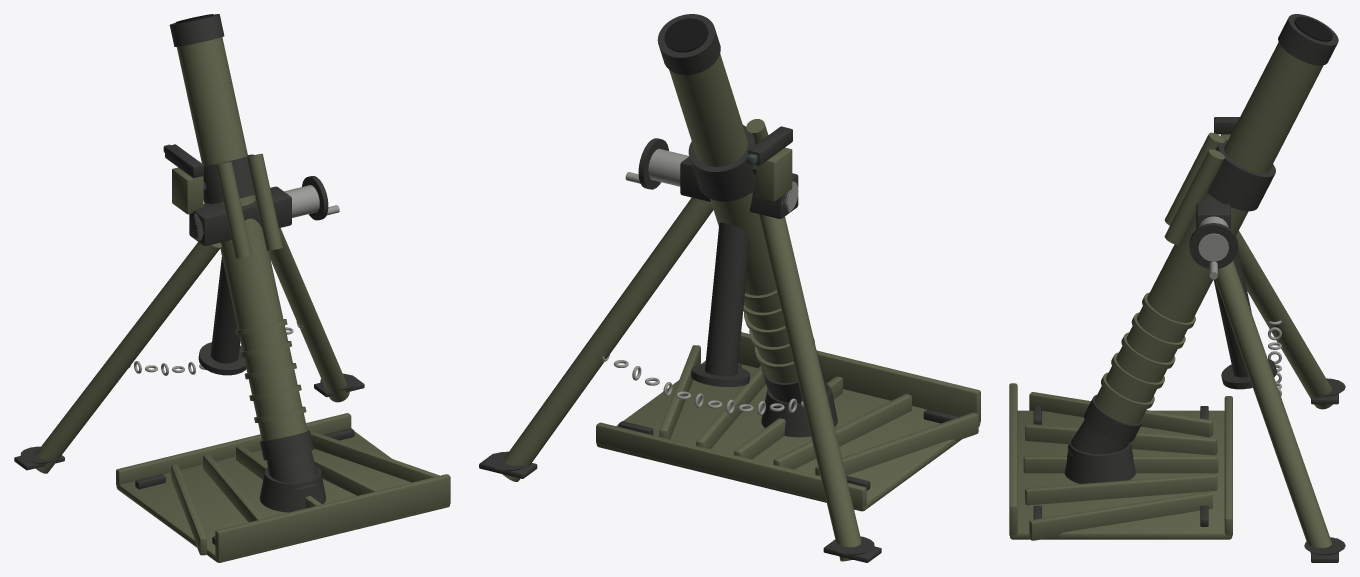
The model's file is morteiro_m2.glb.
3 renders of one model, left to right at view 1: azimuth 30°, elevation 25°; view 2: azimuth 150°, elevation 25°; view 3: azimuth 270°, elevation 25°, orthographic. The views are drawn at different scales.
Parts seen in each view (by area): view 1: Cone.002, Cube, Cube.006, Cone.020, Cone.022, Cube.007, Cube.016, Cube.005, Cone.018, Cone, Cone.012, Cone.013 (+13 smaller); view 2: Cube, Cone.002, Cone.020, Cone.022, Cube.007, Cube.006, Cone.018, Cube.001, Cone.011, Cube.002, Cone.004, Cube.012 (+11 smaller); view 3: Cone.002, Cube, Cone.022, Cone.020, Cube.004, Cube.005, Cube.002, Cone.011, Cube.003, Cube.001, Cone, Cone.013 (+17 smaller).
Boxes of the visible parts, x1,y1,x2,y2 form: Cone.002: (176,37,307,440); Cube: (116,431,449,562); Cube.006: (215,474,450,560); Cone.020: (35,242,221,473); Cone.022: (269,228,349,402); Cube.007: (116,413,351,486); Cube.016: (189,186,291,245); Cube.005: (310,431,439,482); Cone.018: (210,257,240,363); Cone: (259,466,326,512); Cone.012: (215,161,251,258); Cone.013: (246,153,282,250); Cube: (596,361,980,511); Cone.002: (669,53,797,382); Cone.020: (759,214,861,561); Cone.022: (502,197,713,481); Cube.007: (596,422,866,508); Cube.006: (738,332,980,422); Cone.018: (705,222,749,376); Cube.001: (815,412,978,475); Cone.011: (688,125,755,201); Cube.002: (773,394,911,469); Cone.004: (657,14,720,74); Cube.012: (756,147,792,201); Cone.002: (1095,42,1323,424); Cube: (1010,410,1232,539); Cone.022: (1215,260,1331,553); Cone.020: (1236,230,1332,409); Cube.004: (1025,473,1217,505); Cube.005: (1029,492,1212,540); Cube.002: (1025,424,1217,455); Cone.011: (1207,140,1275,211); Cube.003: (1023,456,1218,473); Cube.001: (1029,392,1212,437); Cone: (1064,437,1135,483); Cone.013: (1164,149,1224,244).
Size of the model in its own units: 0.61 by 0.7394 by 0.4843.
